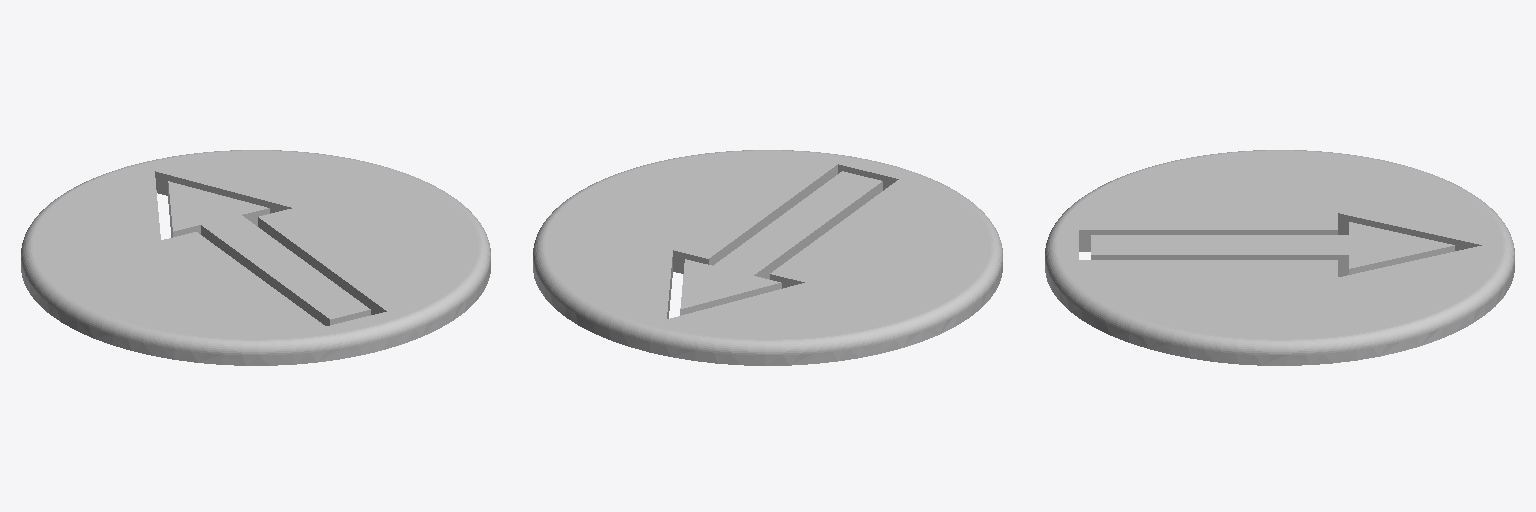
File: markerV2_base.obj
3 views of the same model, side by side, from view 1: azimuth 30°, elevation 25°; view 2: azimuth 150°, elevation 25°; view 3: azimuth 270°, elevation 25° (orthographic).
Parts seen in each view (by area): view 1: <STL_BINARY>; view 2: <STL_BINARY>; view 3: <STL_BINARY>.
Part boxes in pixels (bbox=[...]): <STL_BINARY>: bbox=[21, 150, 490, 365]; <STL_BINARY>: bbox=[533, 150, 1002, 365]; <STL_BINARY>: bbox=[1045, 150, 1514, 365].
Bounding box in the file's own units: 19.99 × 1 × 20.